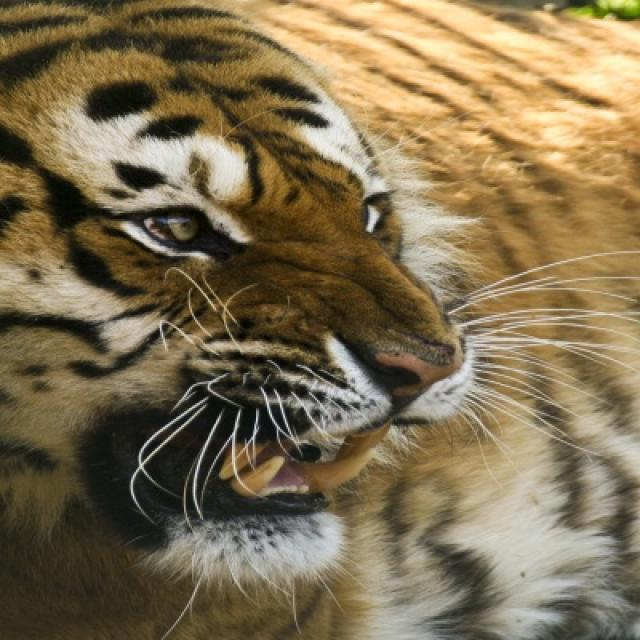Tiger: (14, 24, 478, 600)
